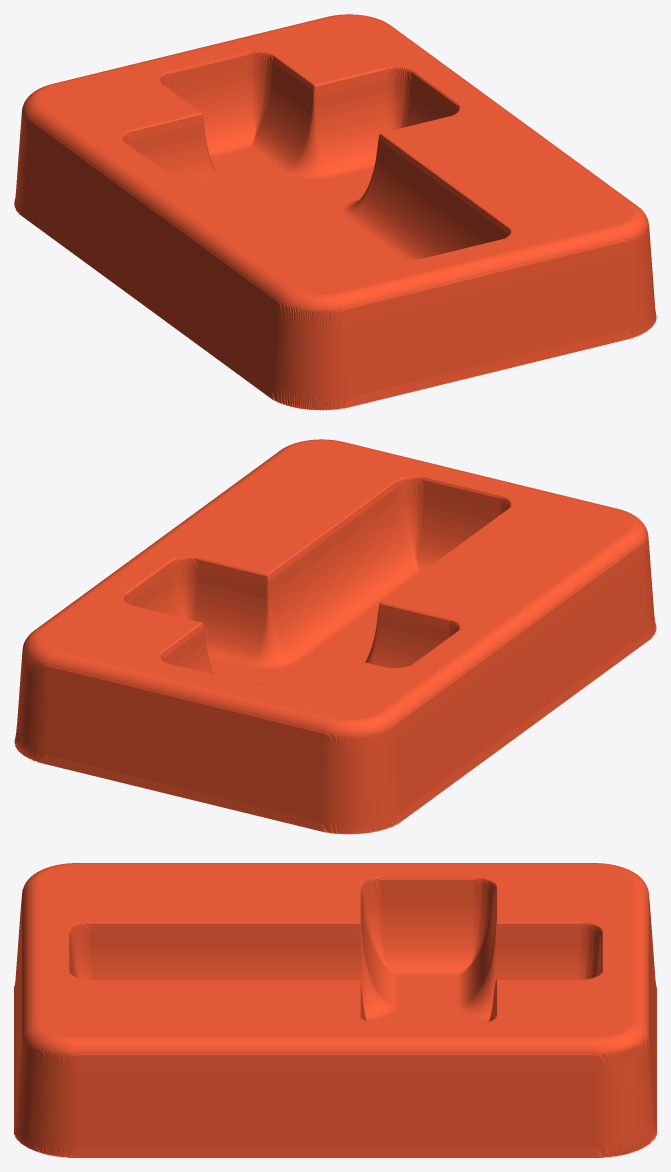
File: mold.glb
3 views of the same model, one above another, from view 1: azimuth 30°, elevation 25°; view 2: azimuth 150°, elevation 25°; view 3: azimuth 270°, elevation 25° (orthographic). The views are drawn at different scales.
Visible parts, largest first — view 1: geometry_0; view 2: geometry_0; view 3: geometry_0.
Boxes of the visible parts, box(x1,y1,x2,y2) form: geometry_0: box(14, 14, 656, 410); geometry_0: box(14, 439, 656, 834); geometry_0: box(14, 863, 656, 1157).
Bounding box in the file's own units: 0.0658 × 0.0175 × 0.0924.
